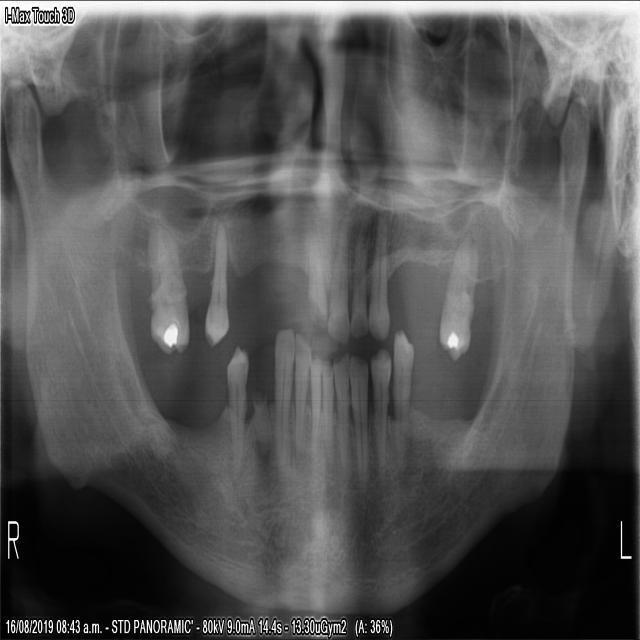LCD: (348, 347, 372, 487)
LCU: (366, 213, 391, 343)
LID: (331, 351, 354, 476), (319, 352, 333, 447)
LIU: (325, 212, 350, 347), (349, 214, 369, 339)
LMU: (439, 228, 477, 360)
LPMD: (367, 346, 391, 465), (391, 323, 414, 422)
RCD: (271, 323, 294, 465)
RID: (291, 326, 310, 459), (308, 343, 323, 460)
RIU: (304, 211, 327, 328)
RMU: (144, 228, 189, 355)
RPMD: (225, 340, 249, 469)
RPMU: (201, 225, 229, 350)
